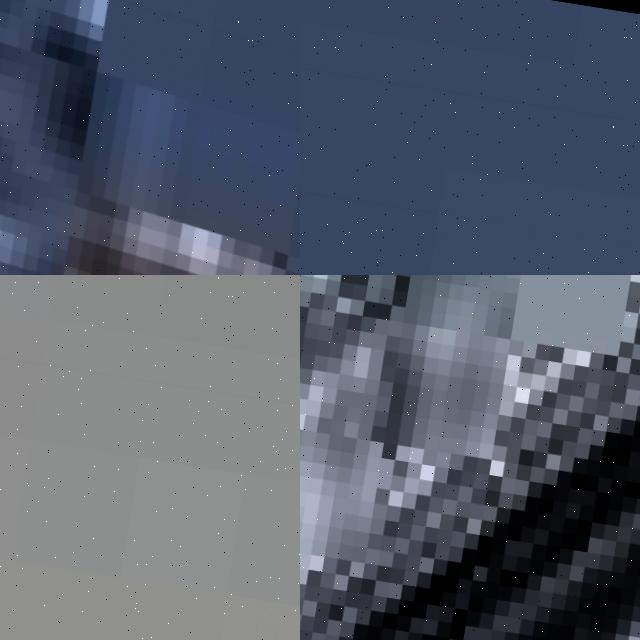drone: (0, 0, 300, 275)
